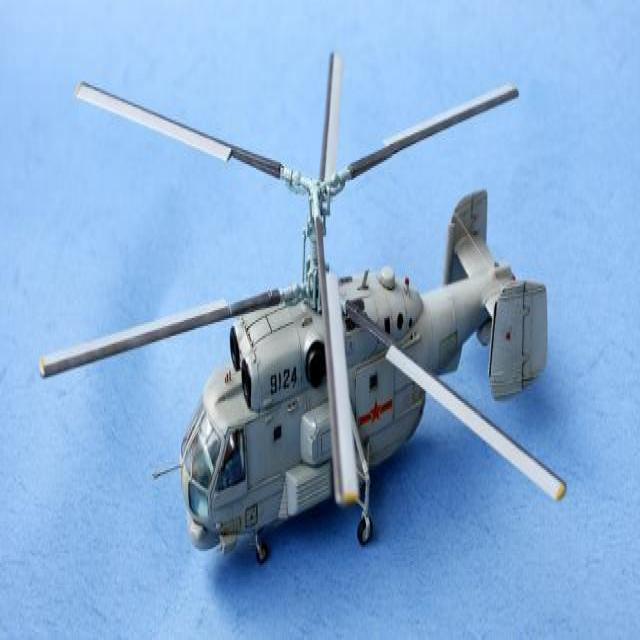MIL_HELO: (25, 42, 582, 586)
